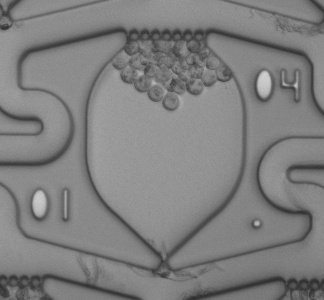AptNum: (250, 61, 305, 110)
Marker: (250, 216, 265, 230)
StNum: (26, 183, 76, 231)
